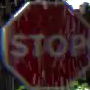Stop: (3, 0, 89, 89)
